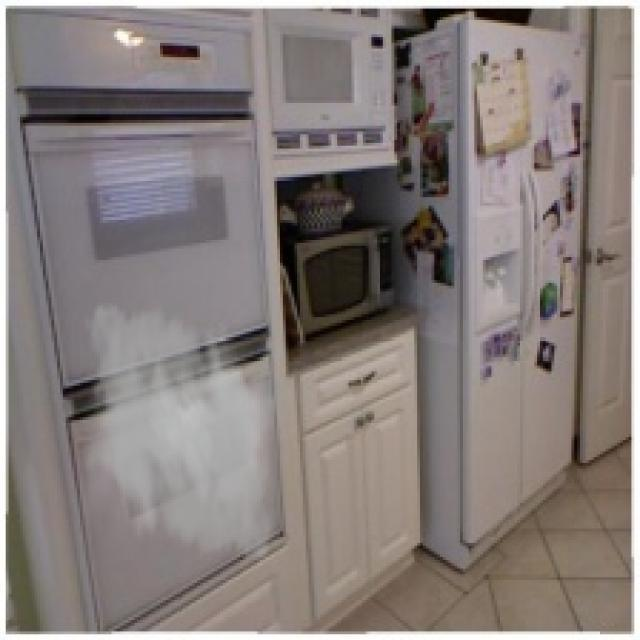Smoke: (69, 292, 288, 572)
